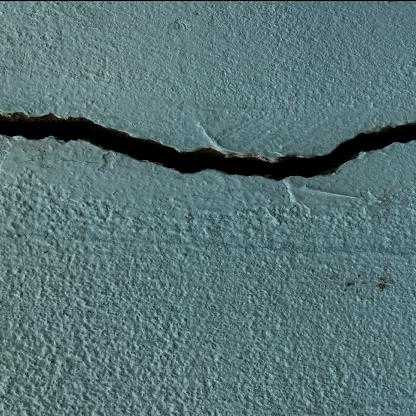crack: (0, 108, 416, 181)
